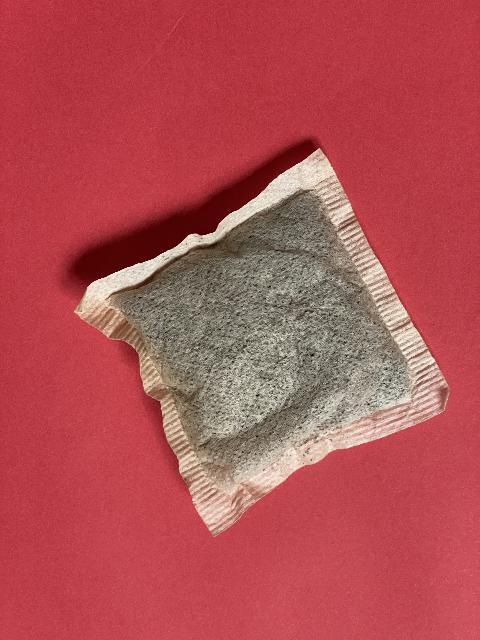teabag: (72, 144, 451, 540)
